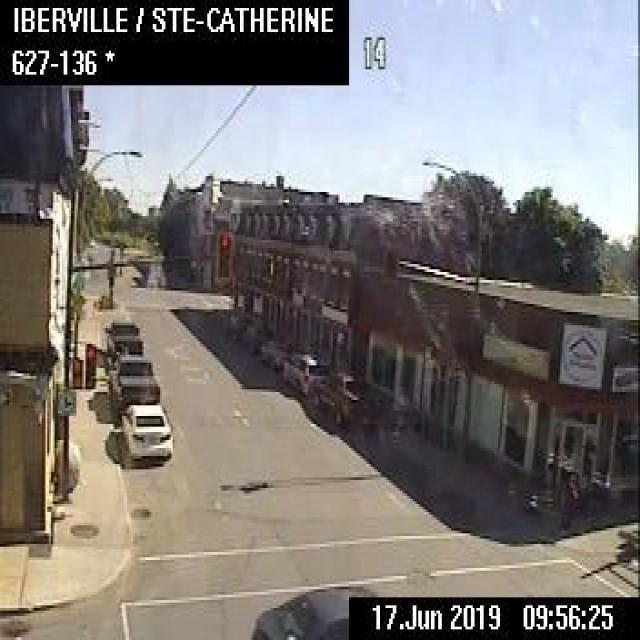pedestrian: (557, 470, 579, 532)
vehicle: (249, 579, 375, 637), (313, 368, 381, 429), (118, 402, 172, 458), (106, 353, 158, 411), (282, 353, 330, 394), (103, 318, 142, 359), (260, 337, 289, 371), (241, 322, 270, 353), (221, 309, 249, 339)
